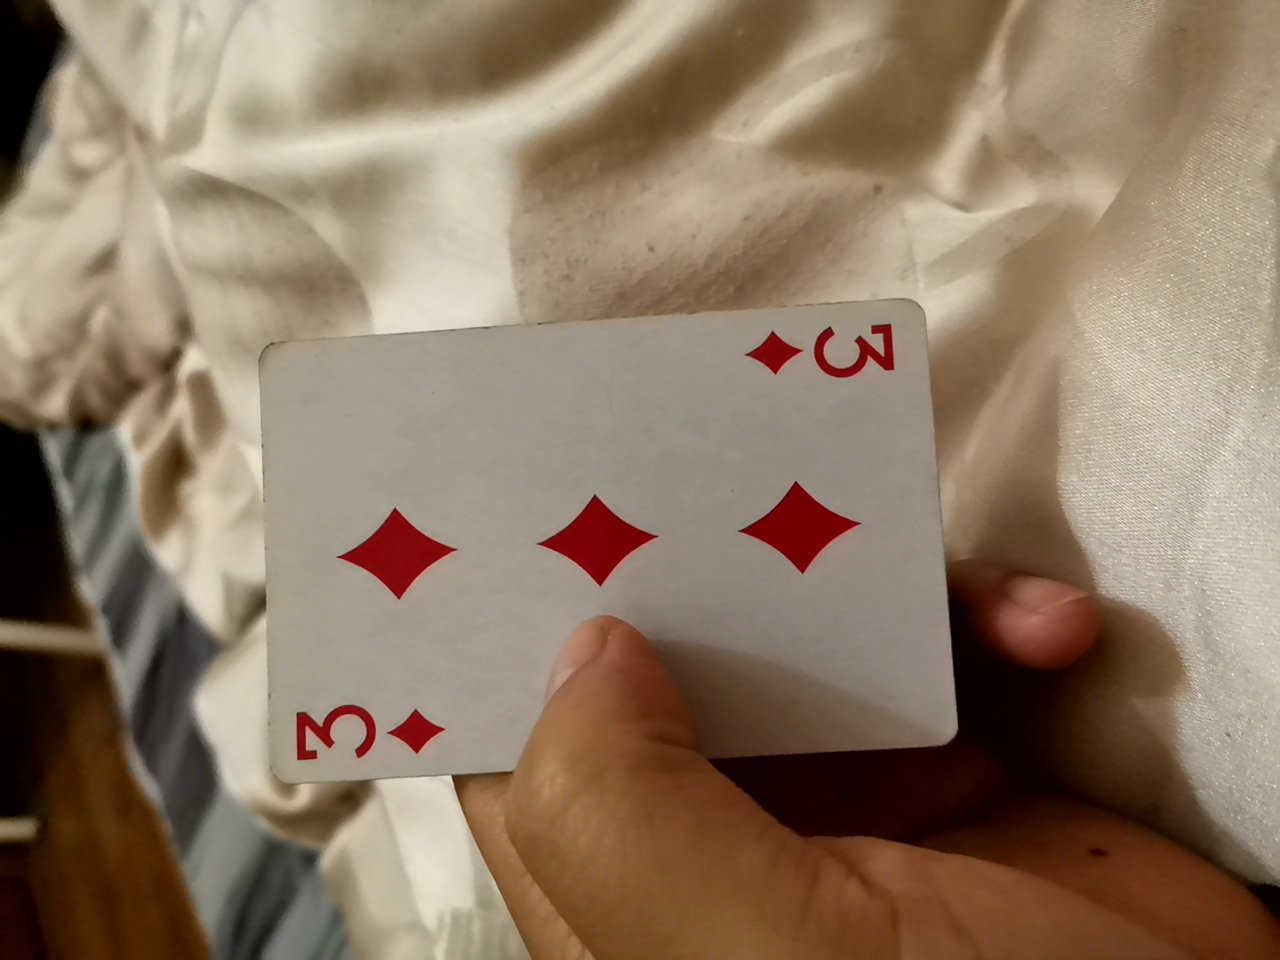fk 3: (287, 268, 1003, 799)
